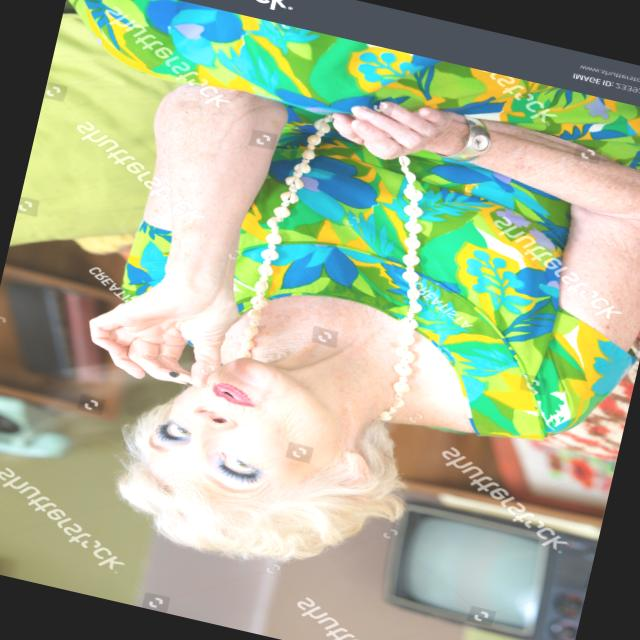smoke: (167, 367, 205, 388)
